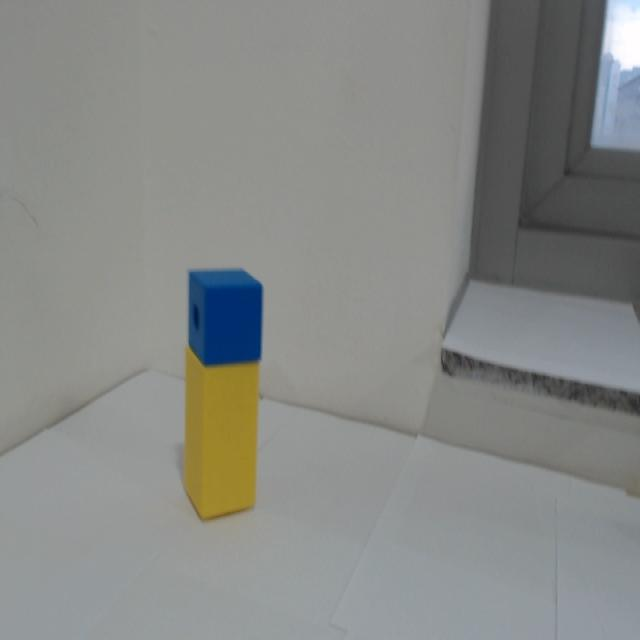cube: (182, 255, 268, 373)
